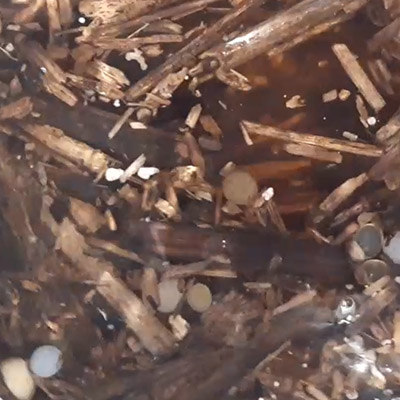nurdle: (219, 171, 267, 206), (348, 222, 385, 261), (28, 343, 67, 377), (183, 284, 215, 315)
